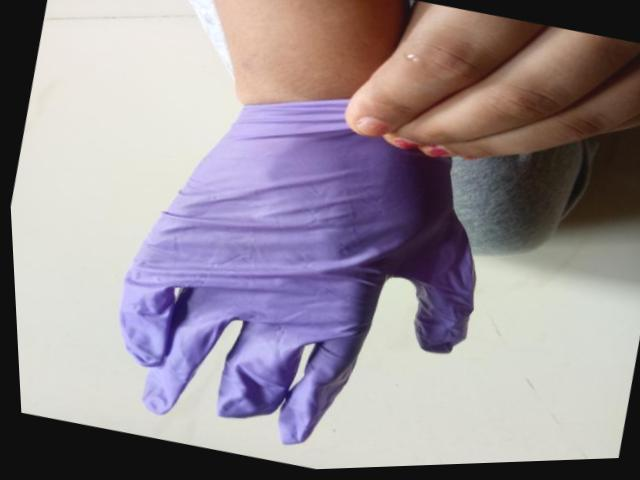Hand-in-Glove: (41, 34, 531, 479)
